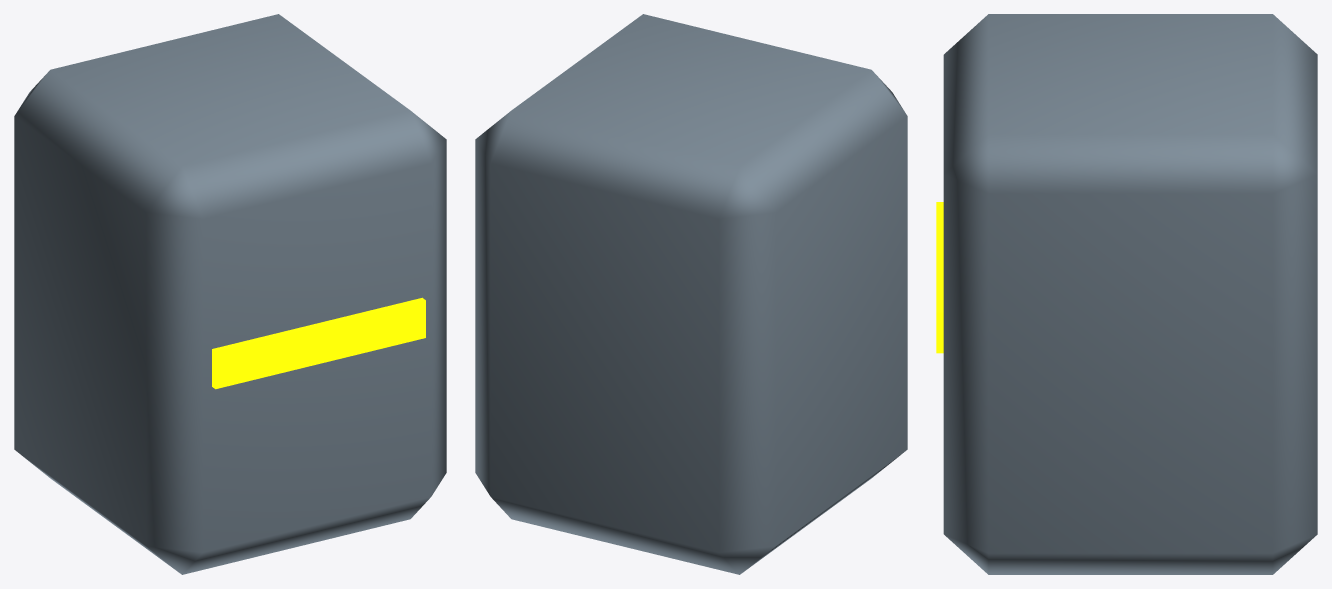
Rendered from barrier.glb.
3 views of the same model, side by side, from view 1: azimuth 30°, elevation 25°; view 2: azimuth 150°, elevation 25°; view 3: azimuth 270°, elevation 25° (orthographic). The views are drawn at different scales.
Parts seen in each view (by area): view 1: Obstruction, Hazard marking; view 2: Obstruction; view 3: Obstruction, Hazard marking.
Boxes of the visible parts, left/top/right/bottom form: Obstruction: left=14, top=14, right=446, bottom=574; Hazard marking: left=212, top=297, right=425, bottom=389; Obstruction: left=475, top=14, right=907, bottom=574; Obstruction: left=943, top=14, right=1317, bottom=574; Hazard marking: left=936, top=202, right=943, bottom=353.
Bounding box in the file's own units: 1 × 1.3 × 1.02.
